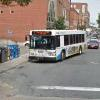Bus: (26, 24, 87, 61)
